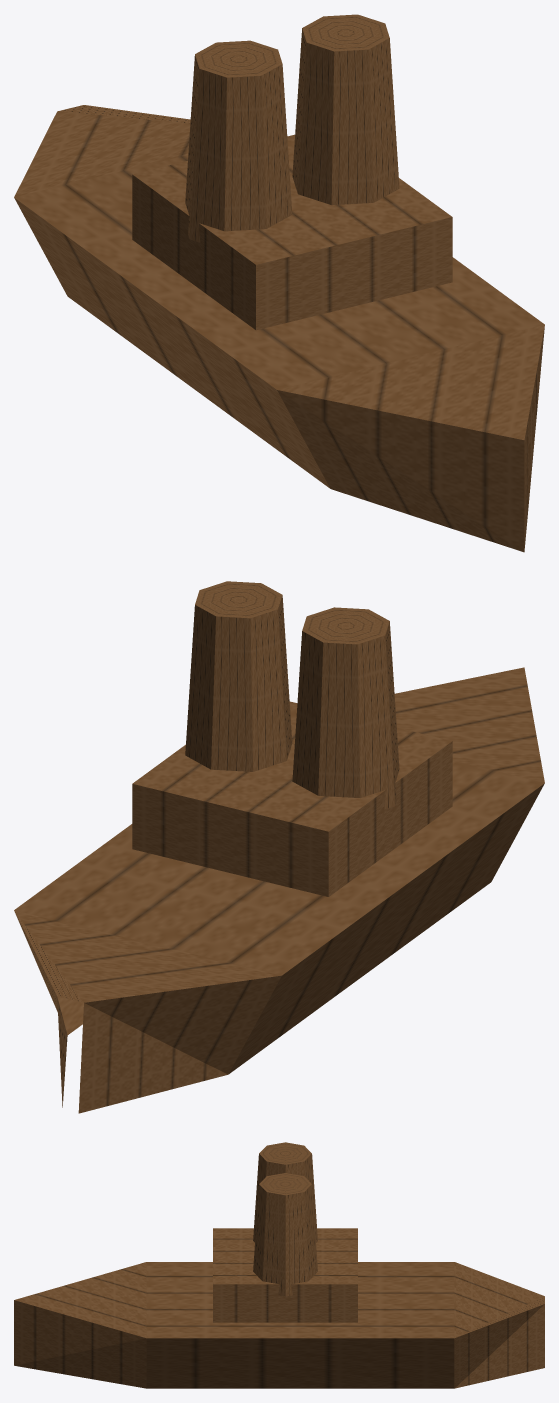
Rendered from military-FIRE_SHIP-1-lod0.glb.
3 views of the same model, one above another, from view 1: azimuth 30°, elevation 25°; view 2: azimuth 150°, elevation 25°; view 3: azimuth 270°, elevation 25° (orthographic). The views are drawn at different scales.
Bounding box in the file's own units: 0.3 × 0.36 × 0.88.
1 material, 1 textured.
